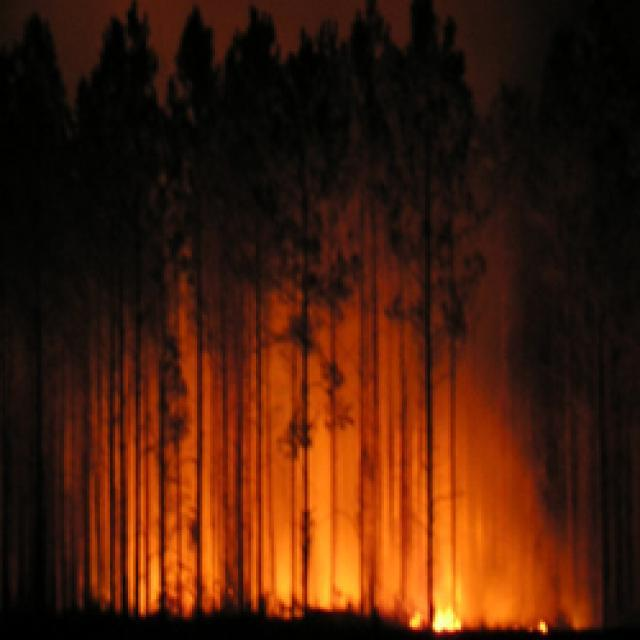Fire: (406, 604, 460, 640), (532, 612, 549, 635)
Smoke: (86, 254, 590, 608)
